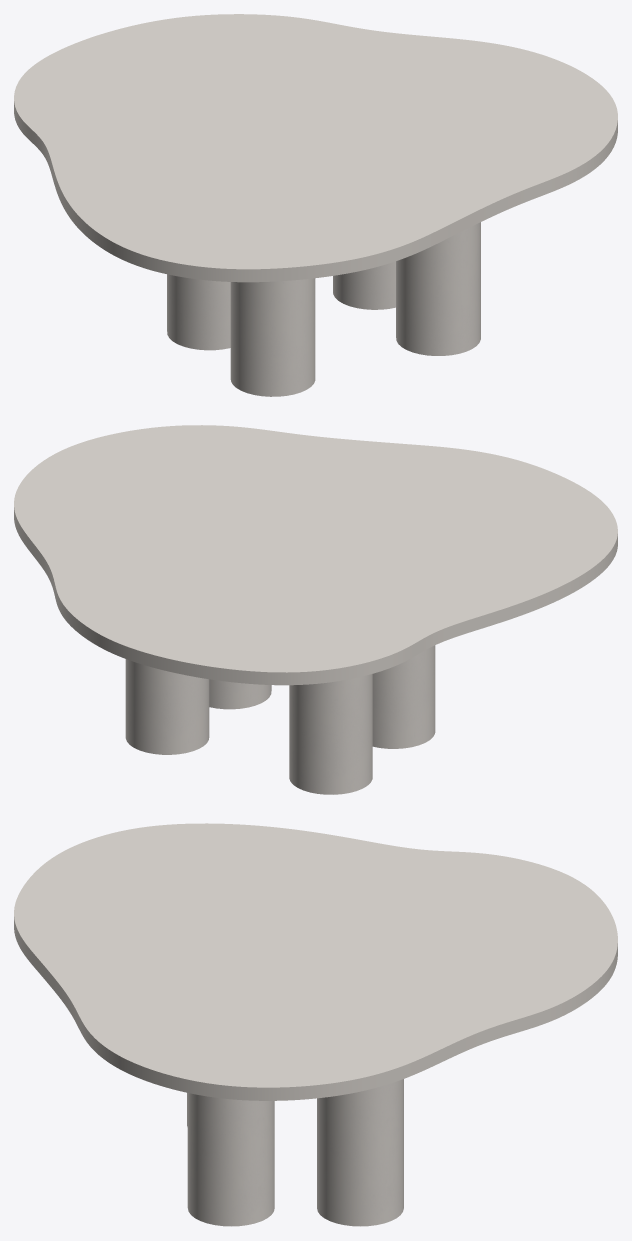
Rendered from pearlwhite_topone_standard_grove.glb.
3 renders of one model, top to bottom at view 1: azimuth 30°, elevation 25°; view 2: azimuth 150°, elevation 25°; view 3: azimuth 270°, elevation 25°, orthographic. The views are drawn at different scales.
Visible parts, largest first — view 1: standard_topone, grove; view 2: standard_topone, grove; view 3: standard_topone, grove.
Boxes of the visible parts, x1,y1,x2,y2 form: standard_topone: [14, 14, 617, 282]; grove: [167, 222, 480, 396]; standard_topone: [14, 425, 617, 685]; grove: [125, 645, 435, 794]; standard_topone: [14, 823, 617, 1100]; grove: [187, 1079, 403, 1226].
Size of the model in its own units: 6.83 by 2.5 by 6.6.
Materials: 1 (1 with a texture image).
